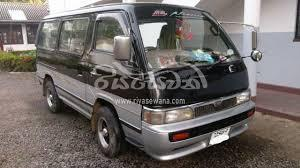van: (32, 3, 262, 159)
